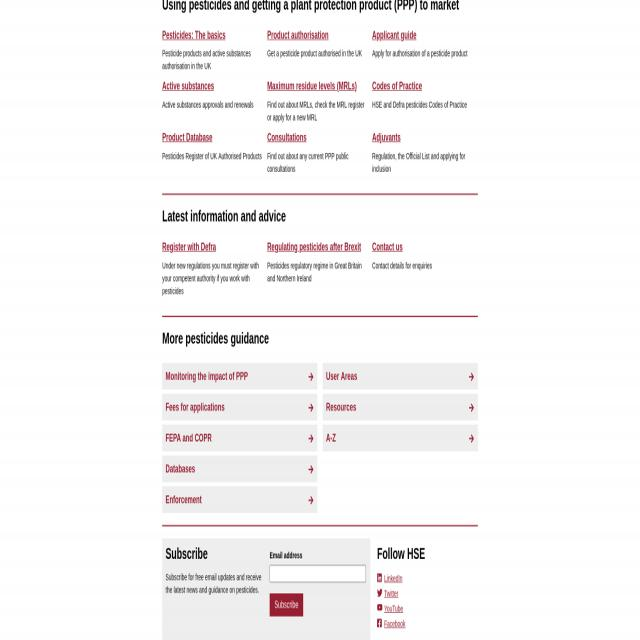button: (162, 424, 318, 452), (322, 424, 478, 452), (162, 363, 318, 390), (322, 363, 478, 390), (162, 394, 318, 421), (322, 394, 478, 421), (162, 455, 318, 482), (162, 486, 318, 513), (270, 593, 303, 617)
field: (270, 565, 366, 582)
